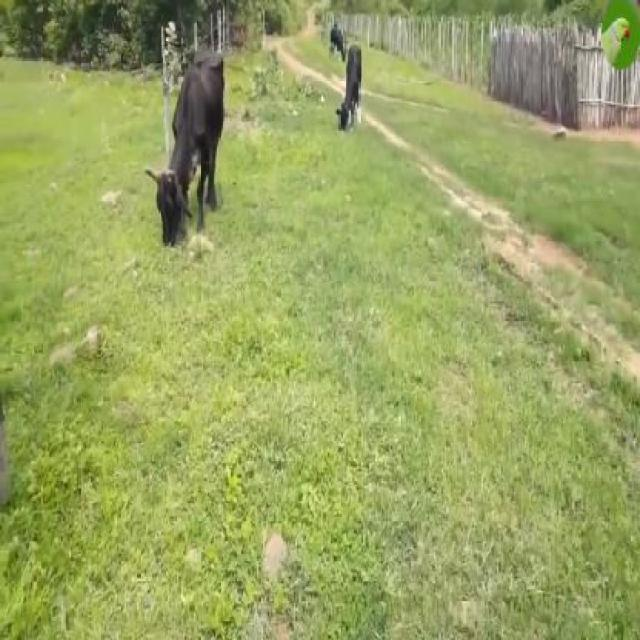Cow: (144, 52, 224, 248)
